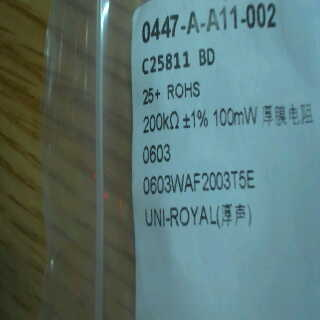200kR: (139, 110, 183, 136)
